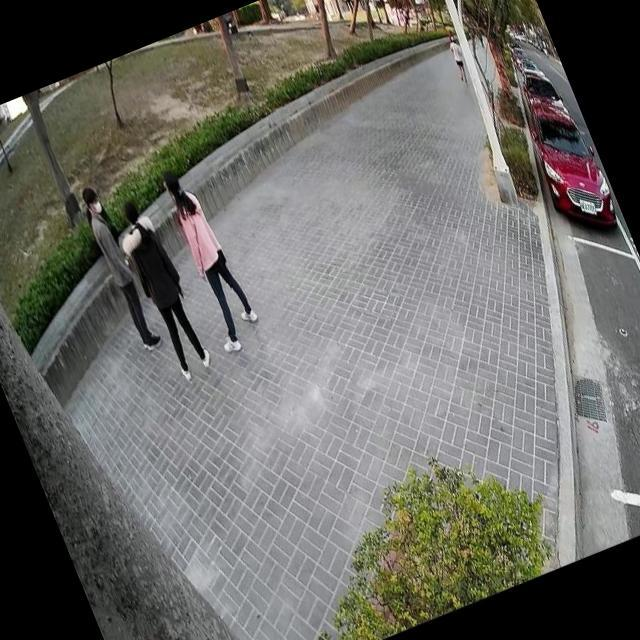person: (148, 152, 272, 362), (103, 189, 218, 388), (73, 179, 167, 357), (440, 29, 474, 88), (470, 21, 488, 50)
